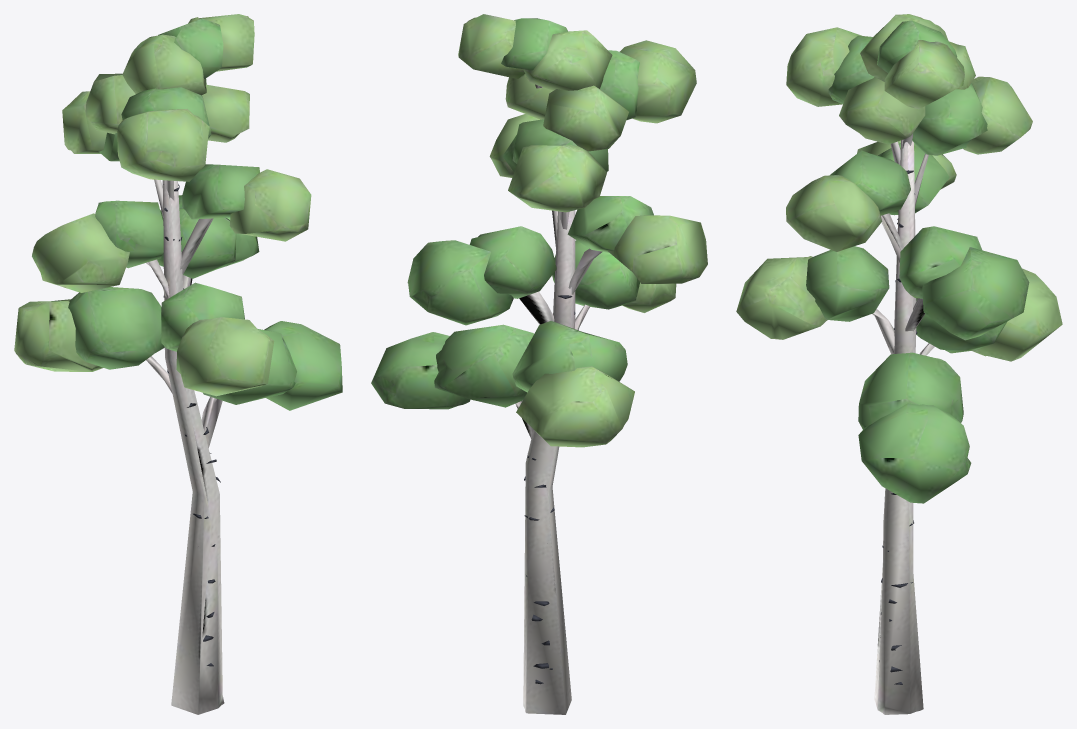
File: birch-tree.glb
3 renders of one model, left to right at view 1: azimuth 30°, elevation 25°; view 2: azimuth 150°, elevation 25°; view 3: azimuth 270°, elevation 25°, orthographic. The views are drawn at different scales.
Parts seen in each view (by area): view 1: birch-tree_body; view 2: birch-tree_body; view 3: birch-tree_body.
Boxes of the visible parts, x1,y1,x2,y2 form: birch-tree_body: [14, 14, 342, 714]; birch-tree_body: [371, 14, 707, 714]; birch-tree_body: [736, 14, 1062, 714].
Bounding box in the file's own units: 3.1 × 6.63 × 2.88.
2 materials, 1 textured.
